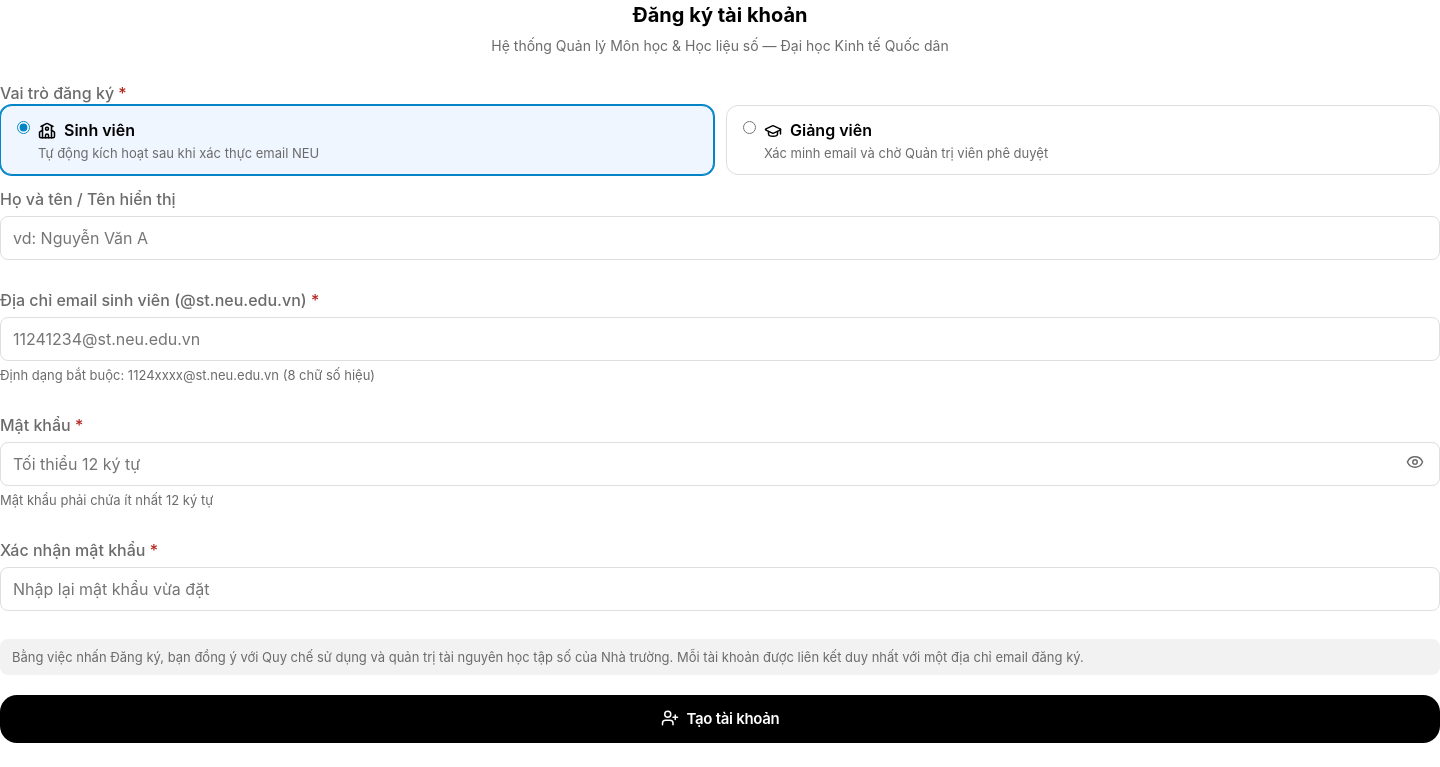
Test case: T06 / B04 — Auth UI: Registration, Verification & Role State › T06 regression boundaries › registration displays failure without success or role grant ({})
Type "11240001@st.neu.edu.vn" into the field labelled "Địa chỉ email sinh viên (@st.neu.edu.vn) *" at [720, 339], box [0, 317, 1439, 361]
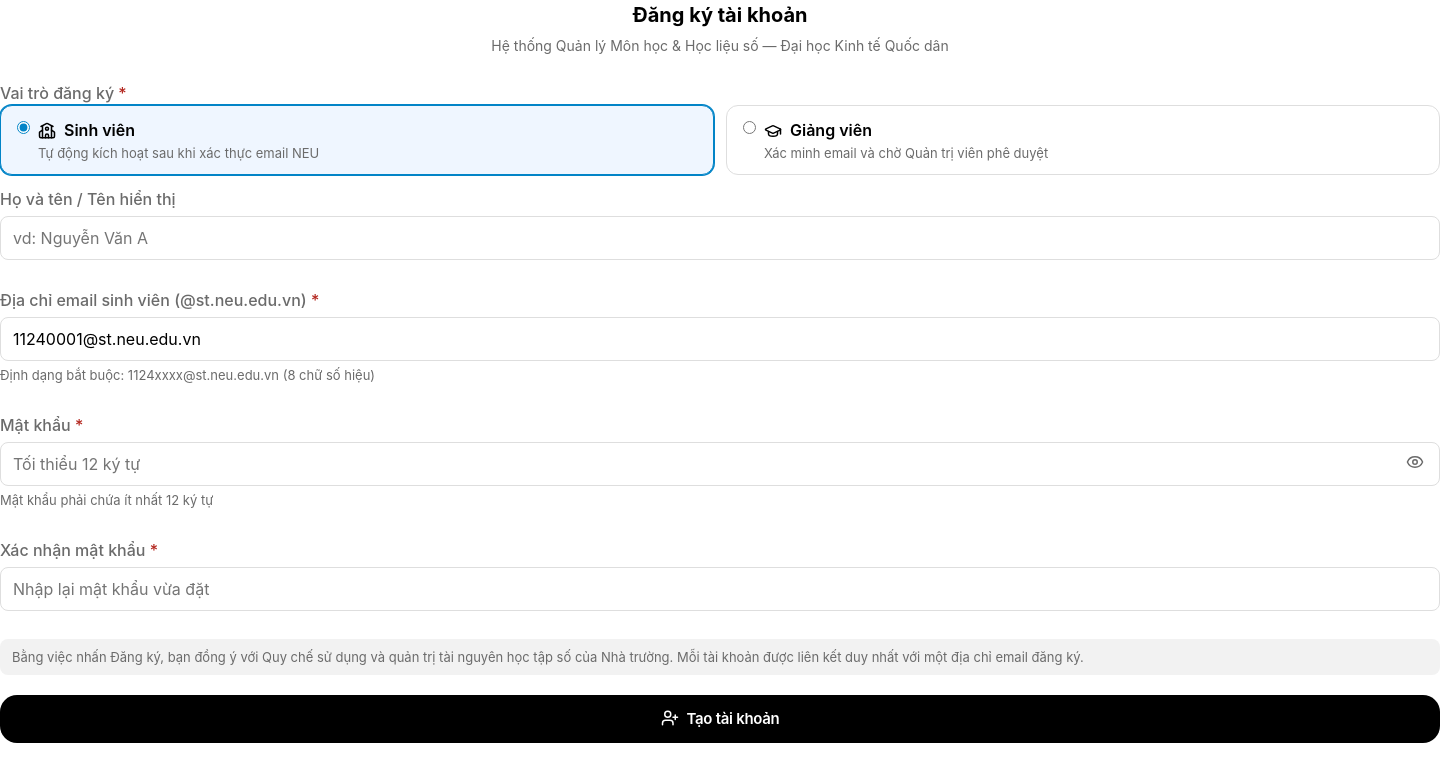
Type "Password123!" into the password field labelled "Mật khẩu *" at [720, 464], box [0, 442, 1439, 486]
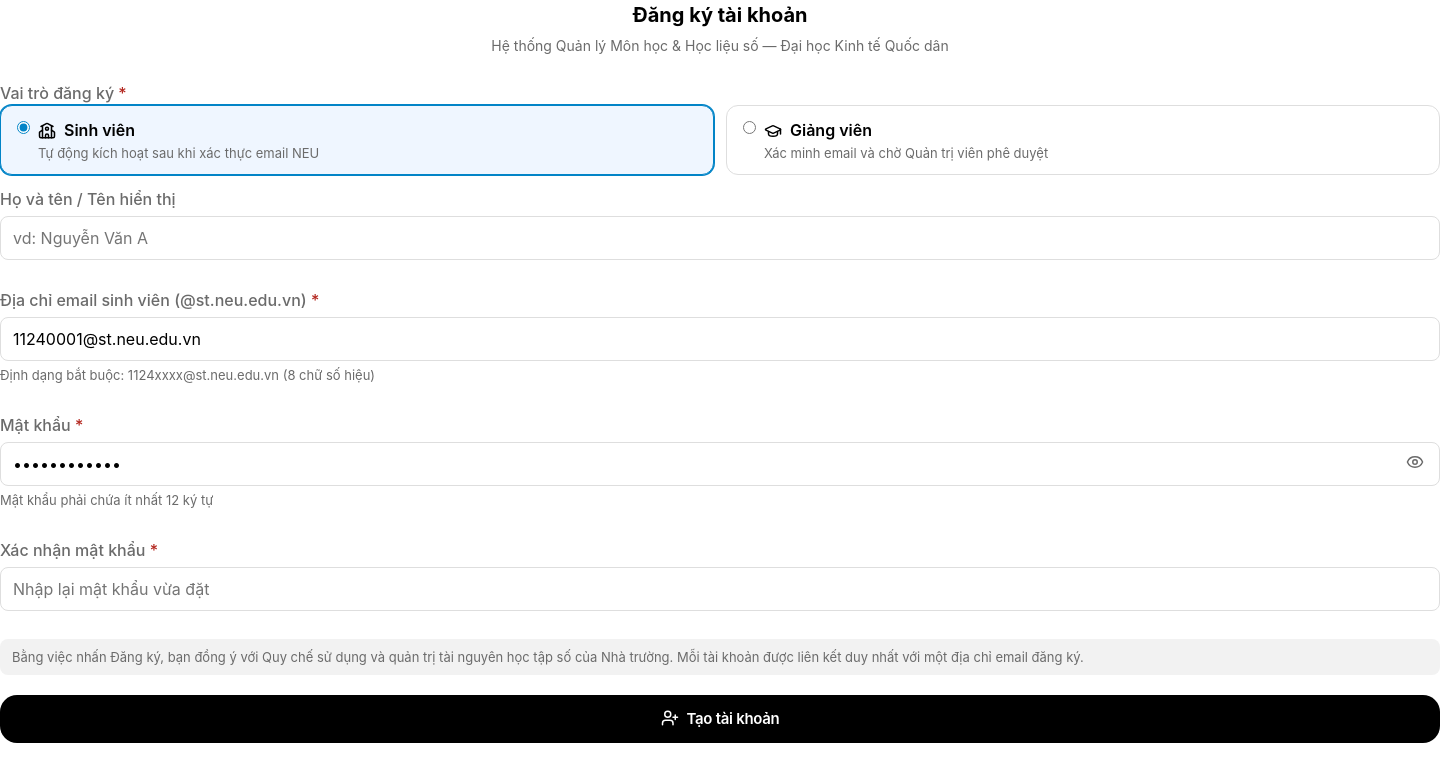
Type "Password123!" into the password field labelled "Xác nhận mật khẩu *" at [720, 589], box [0, 567, 1439, 611]
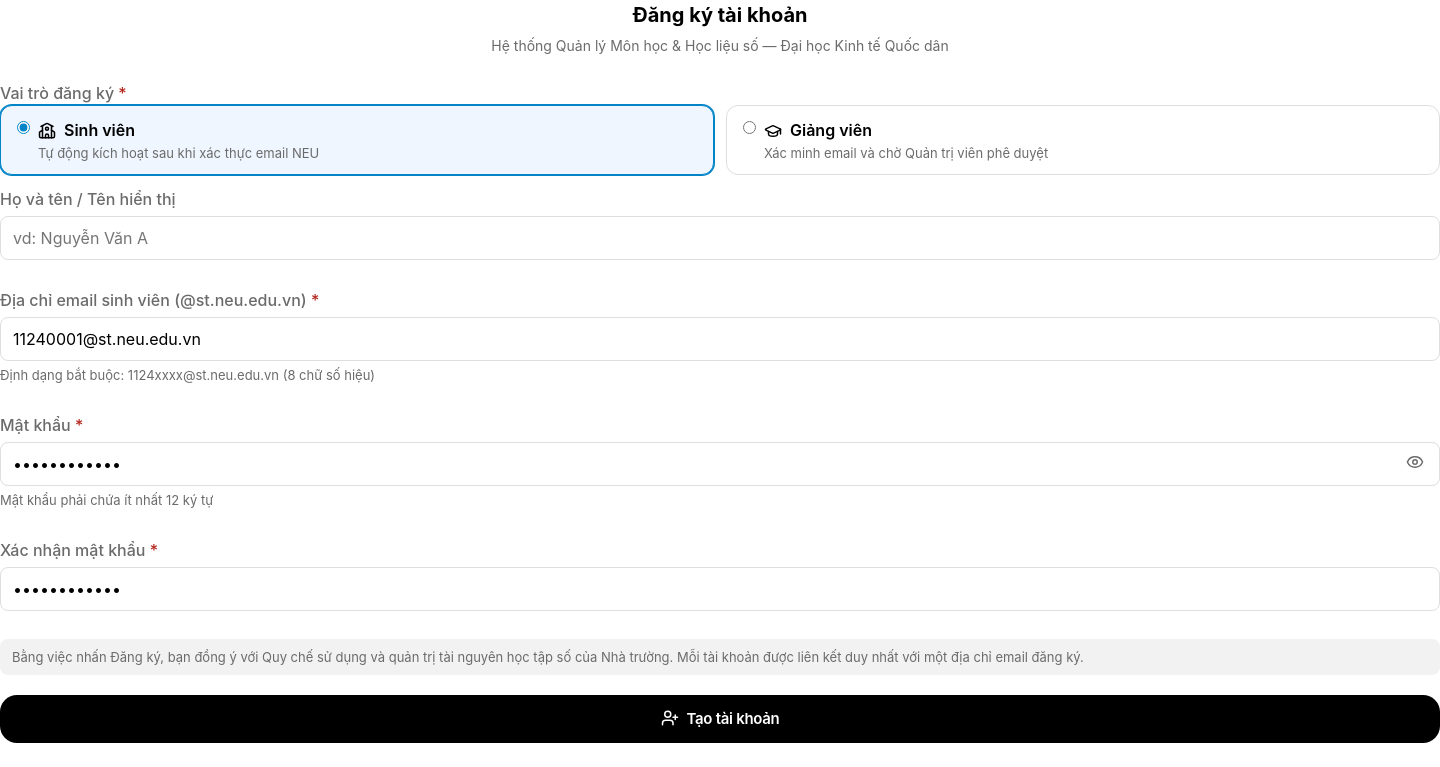
Click the button "Tạo tài khoản" at [720, 719], box [0, 695, 1439, 743]
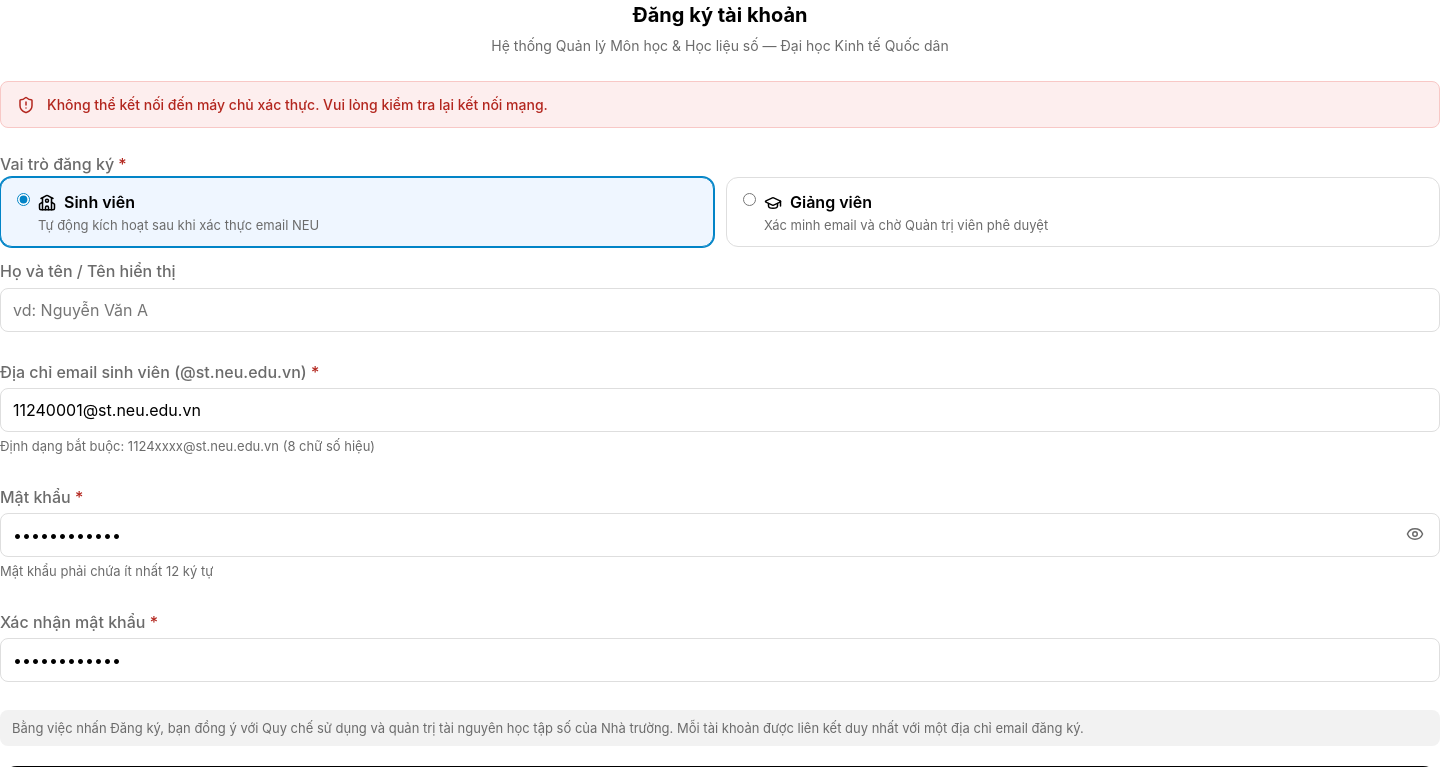
Check: the message shows "Không thể kết nối đến máy chủ", box [47, 96, 548, 113]
